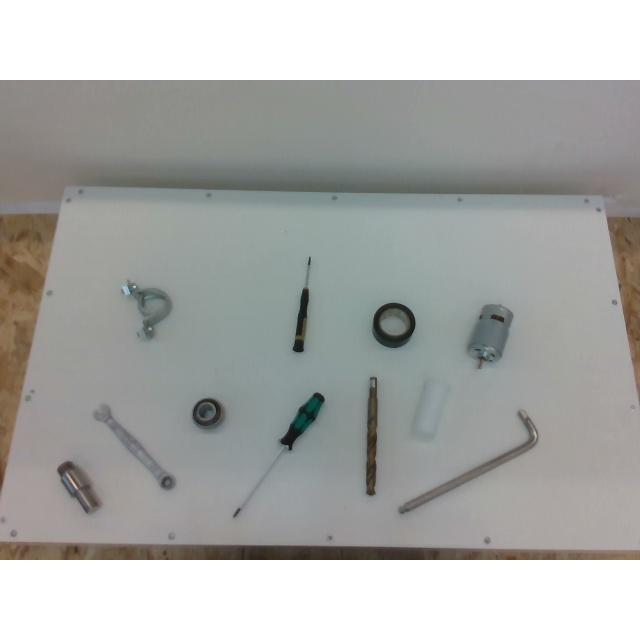AllenKey: (398, 409, 538, 513)
Axis2: (56, 461, 100, 513)
Bearing2: (192, 398, 224, 429)
Drill: (365, 376, 377, 496)
Housing: (121, 280, 171, 338)
Motor2: (468, 304, 512, 361)
Screwdriver: (232, 392, 324, 518)
Spacer: (412, 378, 448, 438)
Wrench: (93, 404, 175, 488)
